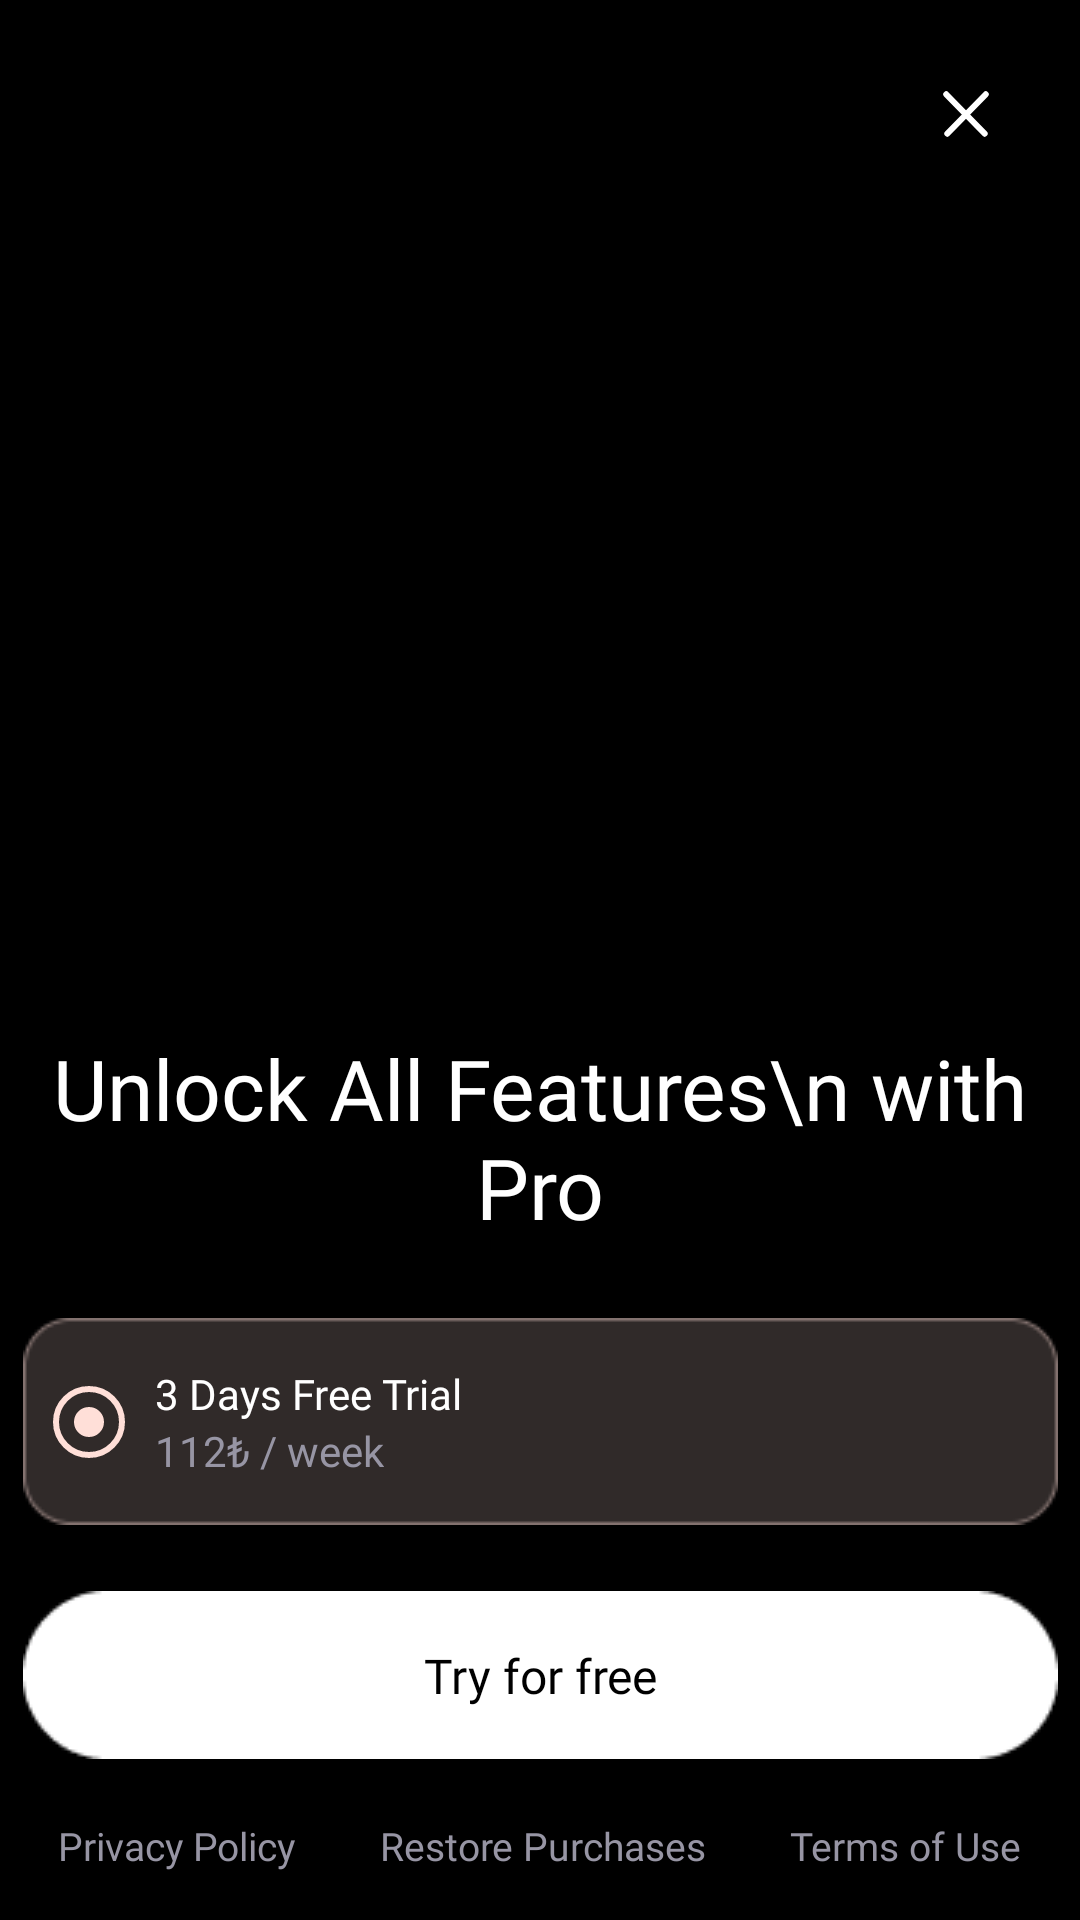

Icons on this 1080 x 1920 Android screen, each with the point to tap as (x,y):
onboard exit: (966,114)
